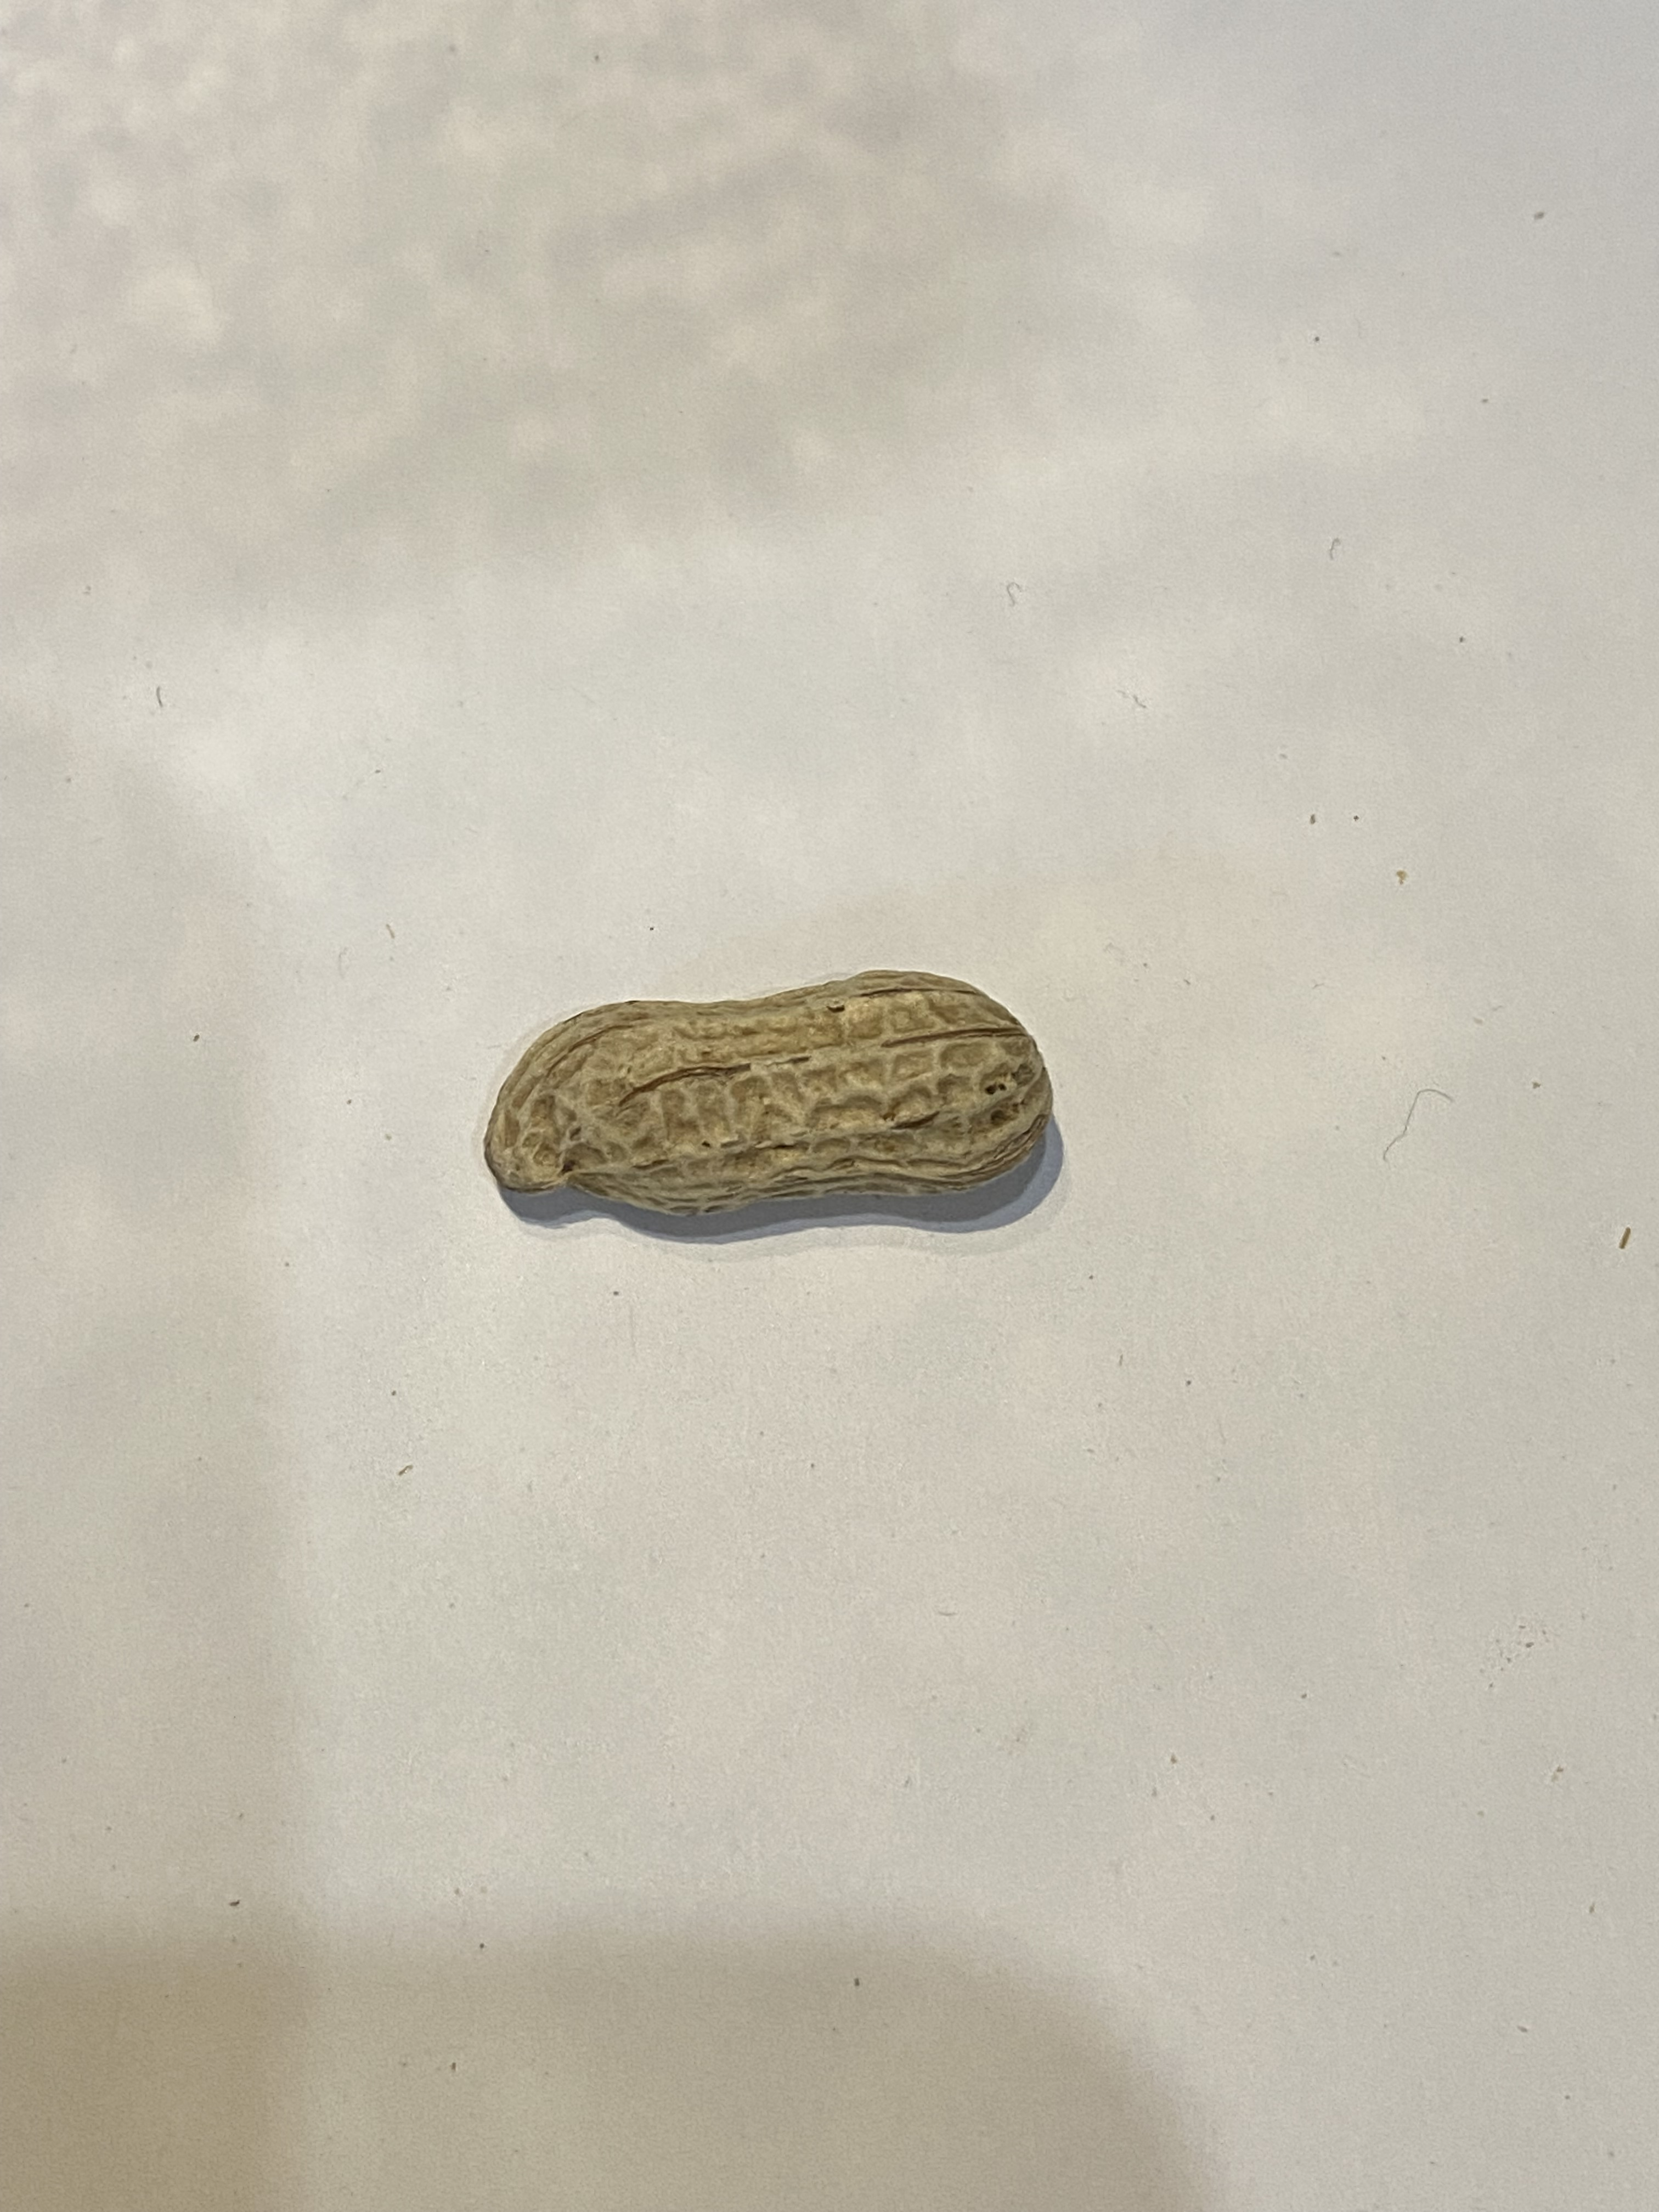kacang2: (457, 932, 1091, 1226)
